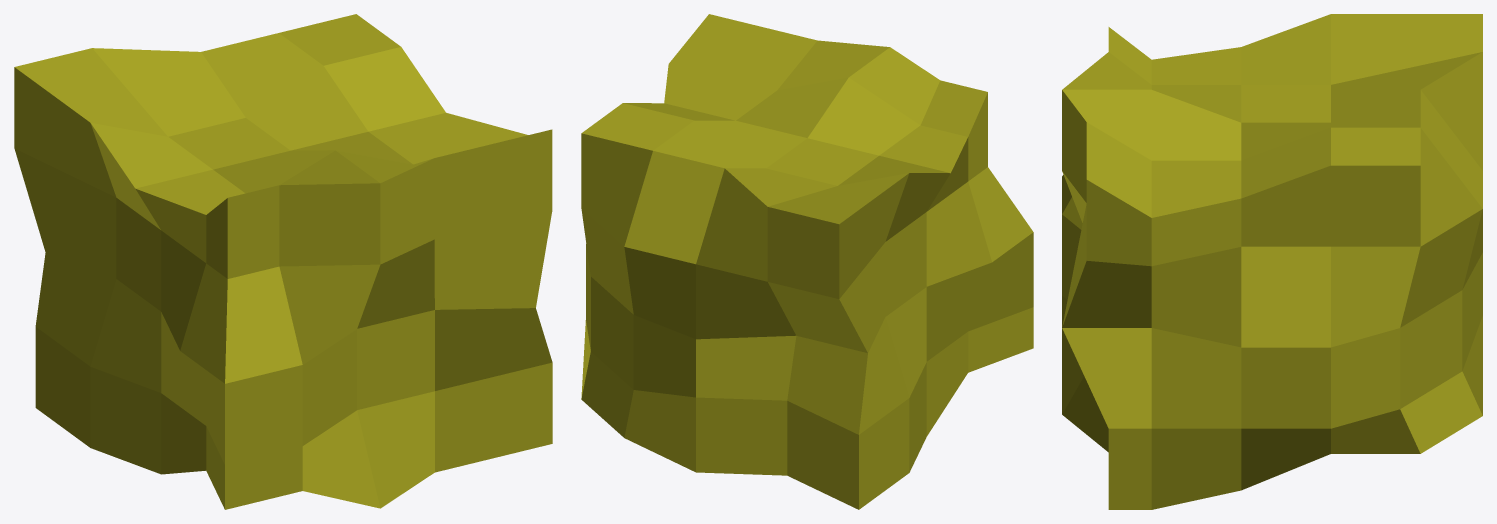
File: skin_1_2.fbx
3 renders of one model, left to right at view 1: azimuth 30°, elevation 25°; view 2: azimuth 150°, elevation 25°; view 3: azimuth 270°, elevation 25°, orthographic. The views are drawn at different scales.
Visible parts, largest first — view 1: Cube; view 2: Cube; view 3: Cube.
Part boxes in pixels (x1,y1,x2,y2): Cube: (14, 14, 552, 509); Cube: (581, 14, 1033, 509); Cube: (1062, 14, 1482, 509).
Size of the model in its own units: 226 by 200 by 235.
